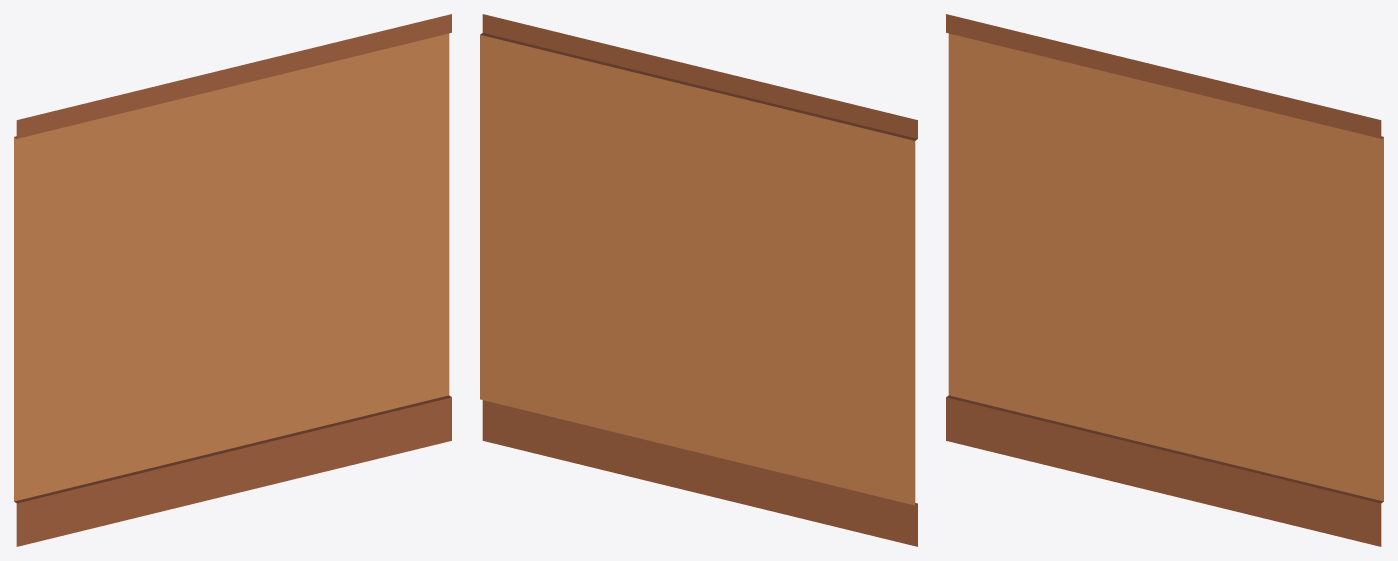
Rendered from Wall4.glb.
The picture shows the model from 3 angles, left to right: view 1: azimuth 30°, elevation 25°; view 2: azimuth 150°, elevation 25°; view 3: azimuth 330°, elevation 25°; orthographic projection.
Parts seen in each view (by area): view 1: SI_Env_Wall_04; view 2: SI_Env_Wall_04; view 3: SI_Env_Wall_04.
Part boxes in pixels (x1=…): SI_Env_Wall_04: x1=14, y1=14, x2=451, y2=546; SI_Env_Wall_04: x1=480, y1=14, x2=917, y2=546; SI_Env_Wall_04: x1=946, y1=14, x2=1383, y2=546.
Size of the model in its own units: 0.05 by 0.0469 by 0.000549.
1 material, 1 textured.
